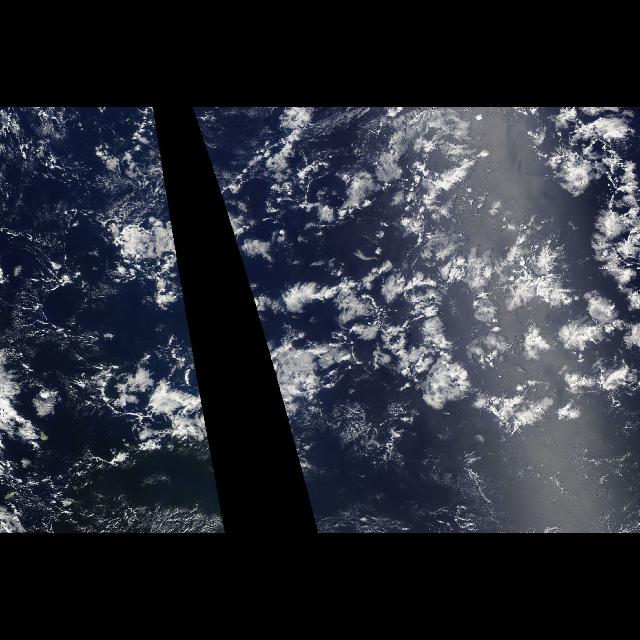Flower: (337, 110, 639, 440)
